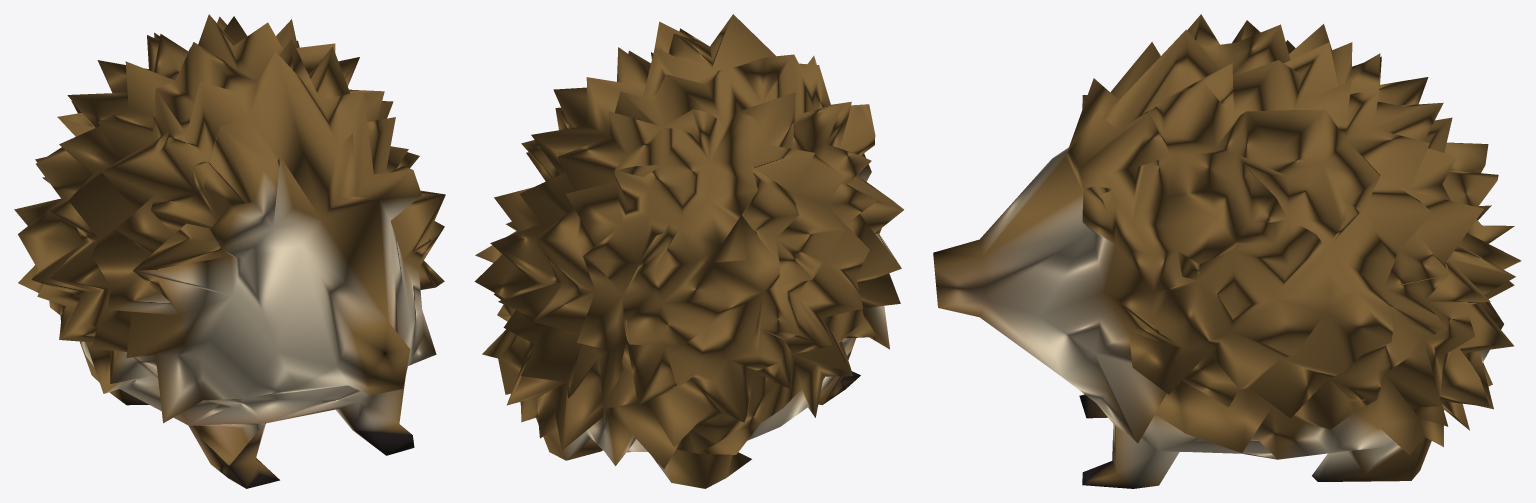
The model's file is gen3d-hedgehog-lod1.glb.
3 renders of one model, left to right at view 1: azimuth 30°, elevation 25°; view 2: azimuth 150°, elevation 25°; view 3: azimuth 270°, elevation 25°, orthographic. The views are drawn at different scales.
Visible parts, largest first — view 1: part_0; view 2: part_0; view 3: part_0.
Boxes of the visible parts, x1,y1,x2,y2 form: part_0: (14,14,445,488); part_0: (474,14,903,488); part_0: (933,14,1521,488).
Bounding box in the file's own units: 0.9633 × 0.9955 × 1.29.
